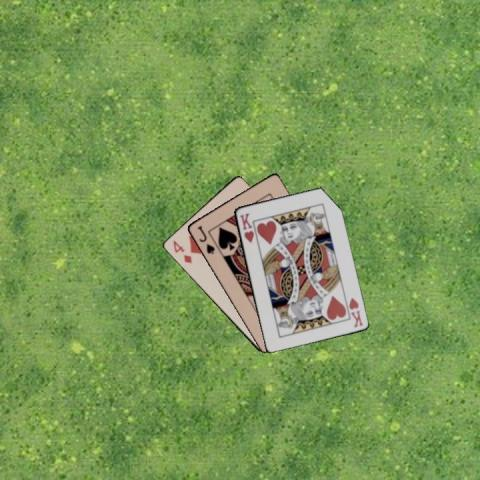4d: (169, 237, 194, 265)
Js: (194, 223, 216, 255)
Kh: (345, 294, 364, 329), (237, 210, 255, 244)
